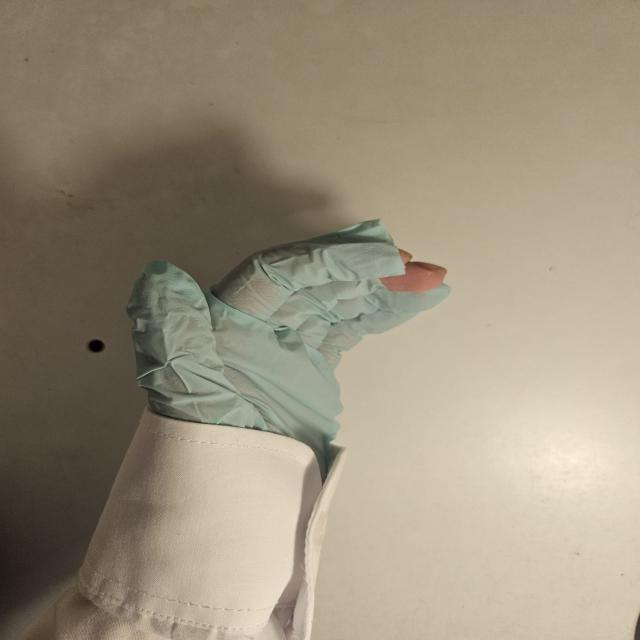gloves_damaged: (117, 216, 470, 445)
